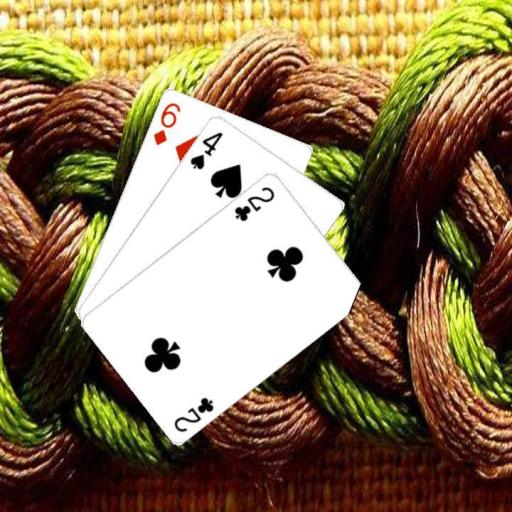2C: (171, 393, 216, 434), (231, 183, 277, 223)
4S: (186, 128, 224, 171)
6D: (150, 99, 182, 146)
